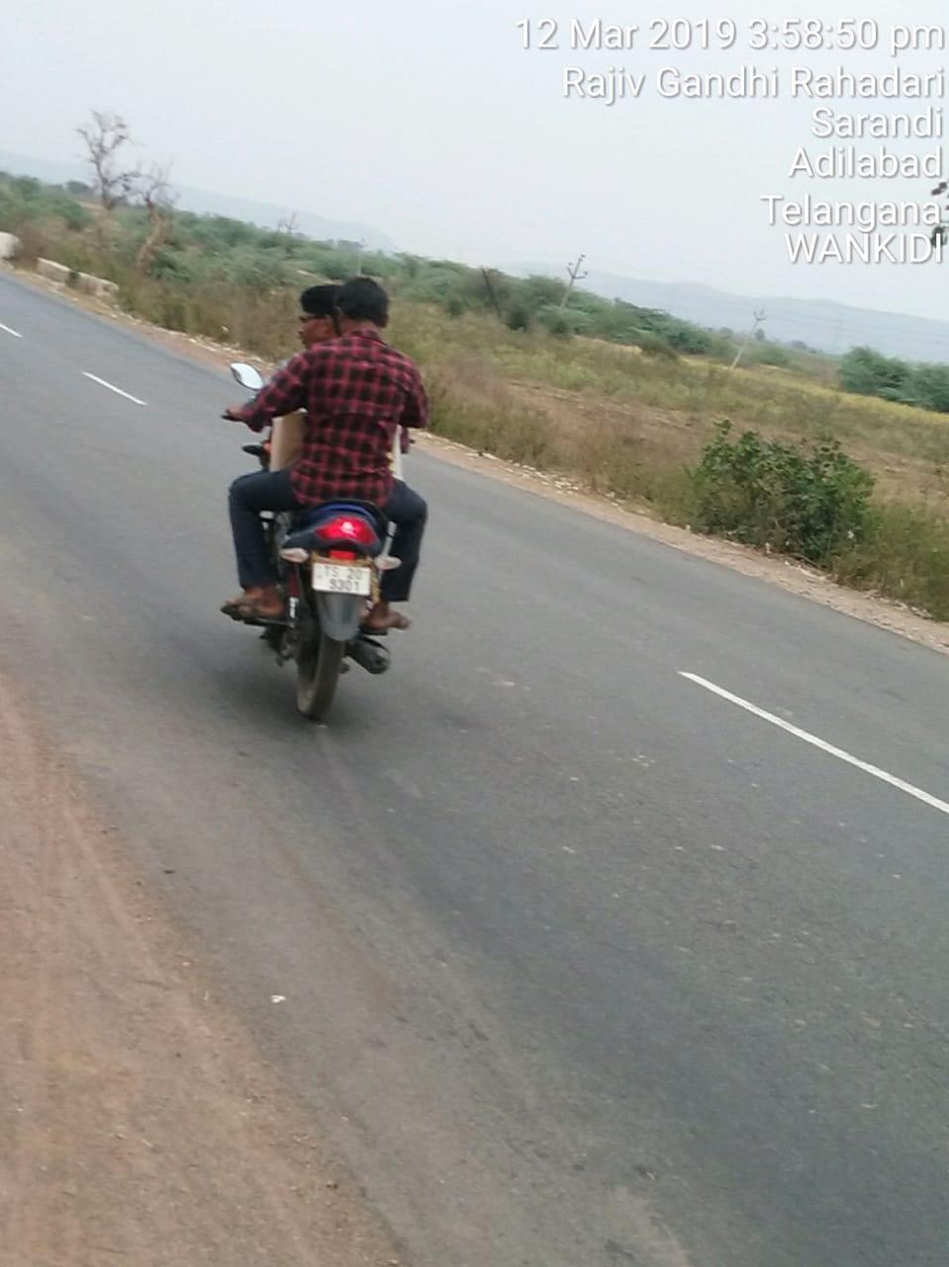plate: (308, 558, 374, 601)
